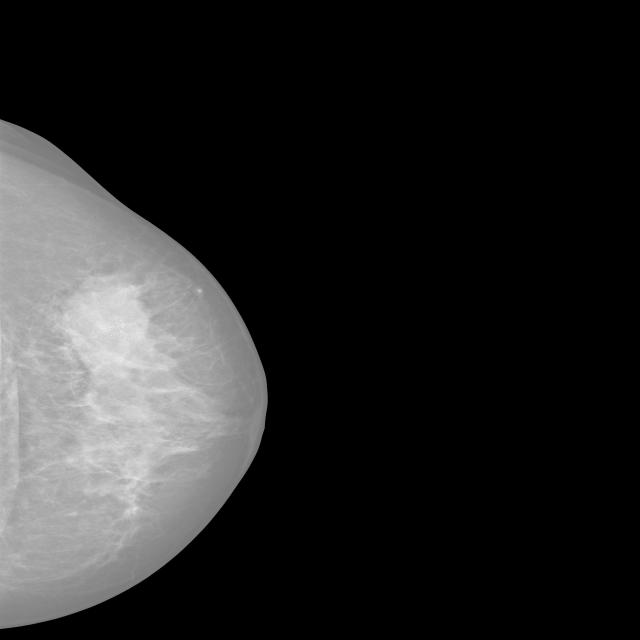Mass_1: (40, 254, 195, 396)
